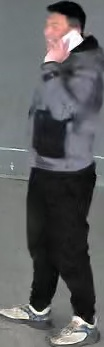phone: (33, 0, 97, 122)
